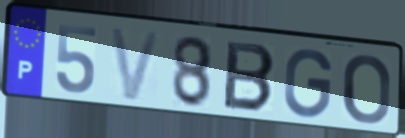5: (54, 22, 99, 96)
8: (170, 33, 215, 110)
B: (220, 38, 279, 115)
G: (281, 46, 335, 121)
O: (341, 52, 392, 126)
V: (107, 25, 164, 103)
